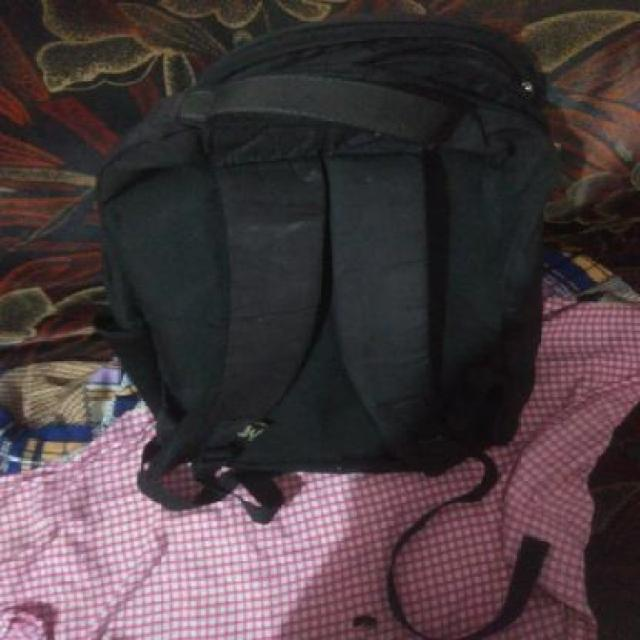backpack: (88, 9, 564, 528)
